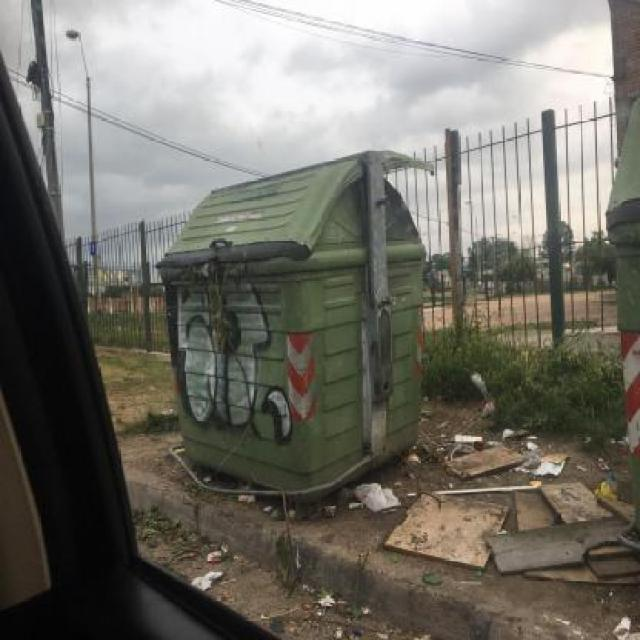garbage: (403, 415, 622, 614), (363, 451, 460, 545)
